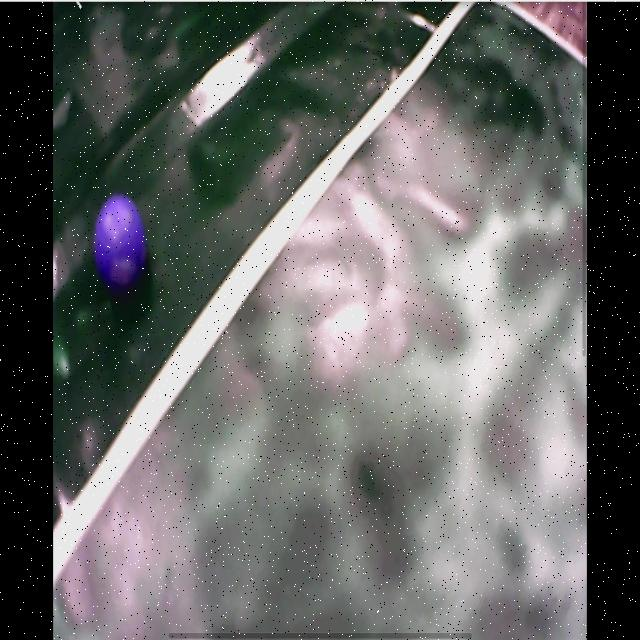ball: (94, 196, 146, 284)
